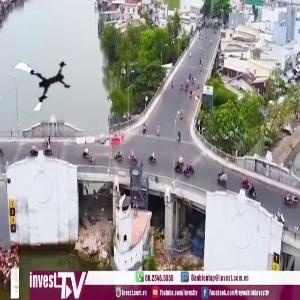drone: (16, 55, 76, 115)
